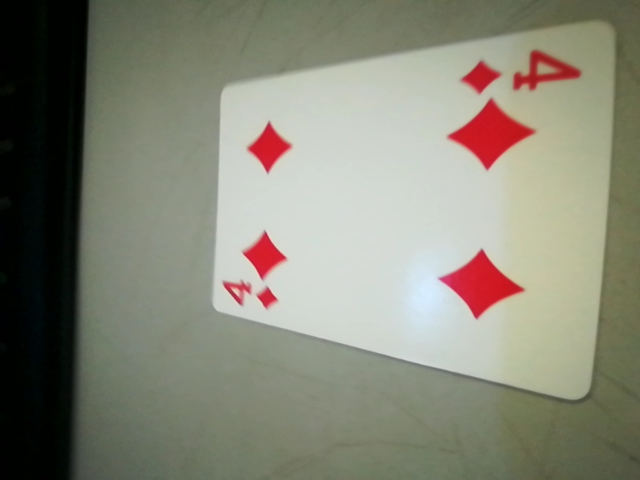fk 4: (455, 48, 589, 100)
